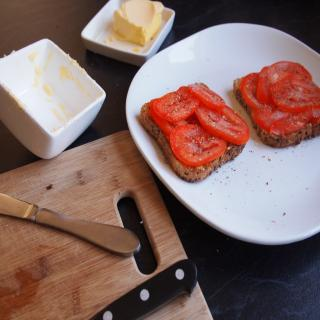Tomato: (254, 59, 316, 107), (169, 123, 225, 167), (270, 75, 320, 120), (196, 102, 248, 144), (151, 90, 196, 124), (253, 108, 303, 136), (240, 68, 268, 111), (188, 83, 228, 110)
